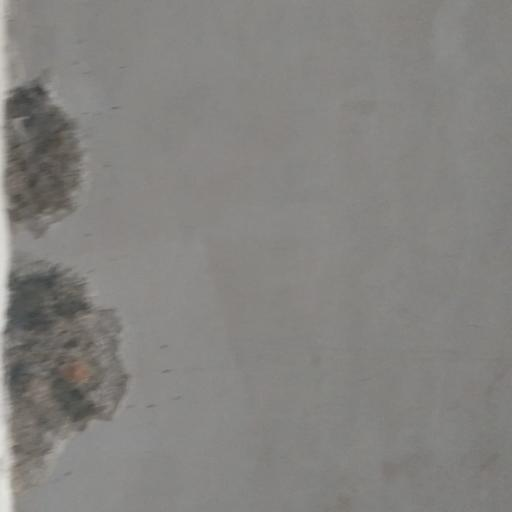spalling: (0, 243, 137, 512), (3, 70, 100, 241)
